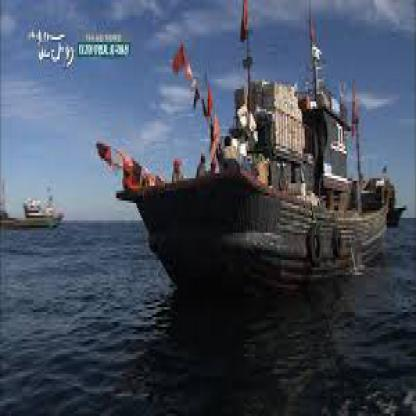fish-b: (95, 0, 410, 305)
